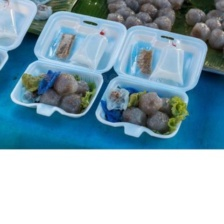foam_box: (92, 22, 211, 141), (8, 8, 130, 120), (0, 0, 40, 75)
